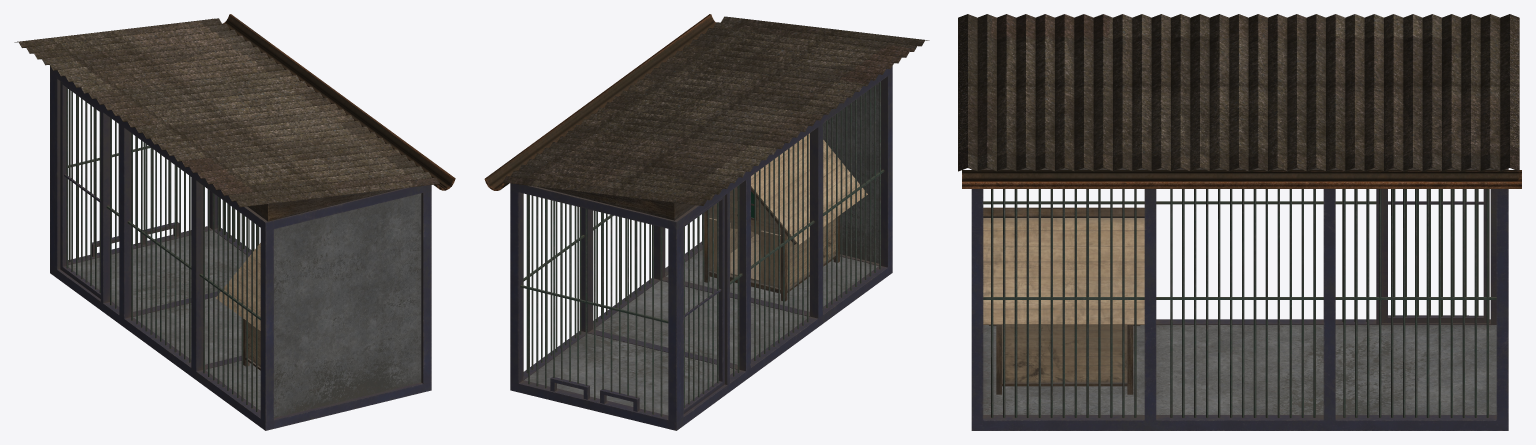
The model's file is dog_enclosure.fbx.
3 renders of one model, left to right at view 1: azimuth 30°, elevation 25°; view 2: azimuth 150°, elevation 25°; view 3: azimuth 270°, elevation 25°, orthographic. The views are drawn at different scales.
Visible parts, largest first — view 1: node_7f587a7c_c4b7_4d11_a434_e10f3e85ddd0_mesh0, node_3f92081a_4a69_4875_989d_482124d822c0_mesh0, node_8c770191_8e27_460a_8e6a_2ca071f05c05_mesh0, node_e5f32620_5c0a_4763_b0d7_84e7213807a6_mesh0, node_313ae9ea_1423_478a_86ad_1fa81a7e6b7c_mesh0; view 2: node_7f587a7c_c4b7_4d11_a434_e10f3e85ddd0_mesh0, node_8c770191_8e27_460a_8e6a_2ca071f05c05_mesh0, node_e5f32620_5c0a_4763_b0d7_84e7213807a6_mesh0, node_3f92081a_4a69_4875_989d_482124d822c0_mesh0, node_313ae9ea_1423_478a_86ad_1fa81a7e6b7c_mesh0; view 3: node_7f587a7c_c4b7_4d11_a434_e10f3e85ddd0_mesh0, node_e5f32620_5c0a_4763_b0d7_84e7213807a6_mesh0, node_3f92081a_4a69_4875_989d_482124d822c0_mesh0, node_8c770191_8e27_460a_8e6a_2ca071f05c05_mesh0, node_313ae9ea_1423_478a_86ad_1fa81a7e6b7c_mesh0.
Part boxes in pixels (<box>): node_7f587a7c_c4b7_4d11_a434_e10f3e85ddd0_mesh0: <box>14,14,455,207</box>; node_3f92081a_4a69_4875_989d_482124d822c0_mesh0: <box>68,188,421,418</box>; node_8c770191_8e27_460a_8e6a_2ca071f05c05_mesh0: <box>50,66,431,430</box>; node_e5f32620_5c0a_4763_b0d7_84e7213807a6_mesh0: <box>66,88,260,411</box>; node_313ae9ea_1423_478a_86ad_1fa81a7e6b7c_mesh0: <box>216,243,260,370</box>; node_7f587a7c_c4b7_4d11_a434_e10f3e85ddd0_mesh0: <box>484,14,929,205</box>; node_8c770191_8e27_460a_8e6a_2ca071f05c05_mesh0: <box>510,66,892,430</box>; node_e5f32620_5c0a_4763_b0d7_84e7213807a6_mesh0: <box>520,81,884,416</box>; node_3f92081a_4a69_4875_989d_482124d822c0_mesh0: <box>524,83,879,415</box>; node_313ae9ea_1423_478a_86ad_1fa81a7e6b7c_mesh0: <box>704,133,867,301</box>; node_7f587a7c_c4b7_4d11_a434_e10f3e85ddd0_mesh0: <box>958,14,1521,188</box>; node_e5f32620_5c0a_4763_b0d7_84e7213807a6_mesh0: <box>983,189,1496,417</box>; node_3f92081a_4a69_4875_989d_482124d822c0_mesh0: <box>982,168,1505,414</box>; node_8c770191_8e27_460a_8e6a_2ca071f05c05_mesh0: <box>971,168,1508,430</box>; node_313ae9ea_1423_478a_86ad_1fa81a7e6b7c_mesh0: <box>983,207,1144,394</box>.
Size of the model in its own units: 262440 by 274896 by 472381.
Materials: 5 (5 with a texture image).
